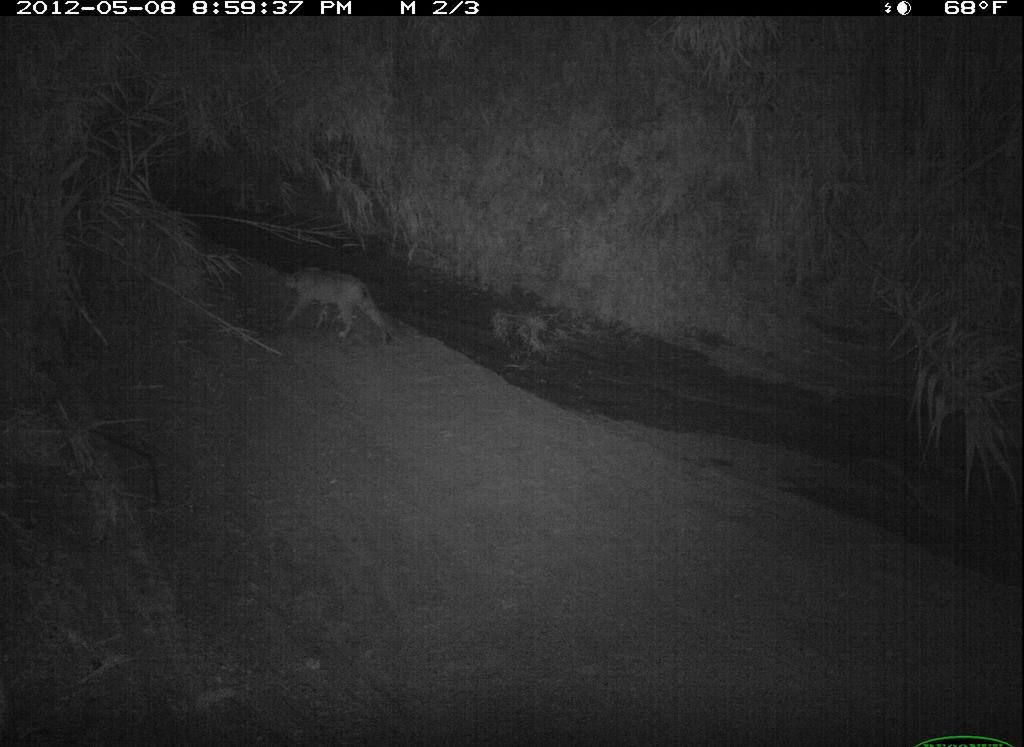bobcat: (554, 523, 807, 705)
